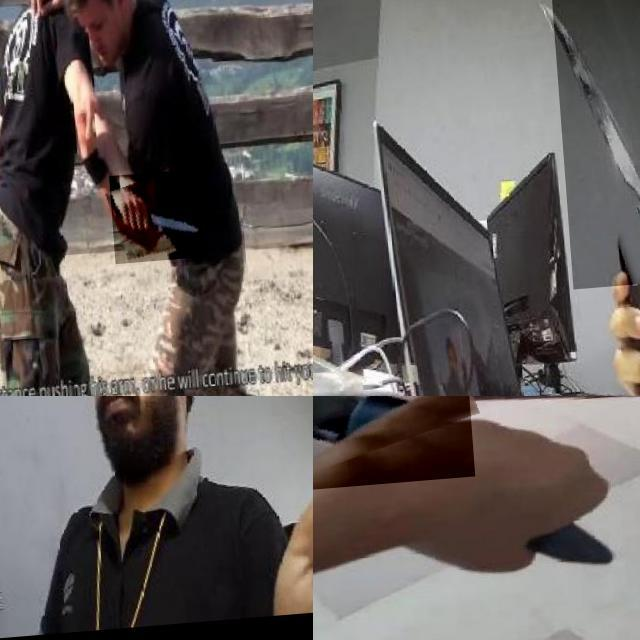-: (549, 0, 640, 295), (313, 396, 482, 515), (104, 178, 198, 270)
